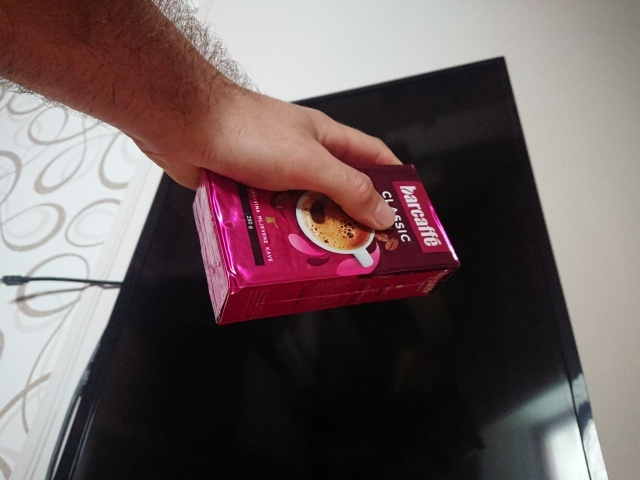Barcaffe Classic Original 225g: (190, 164, 462, 327)
